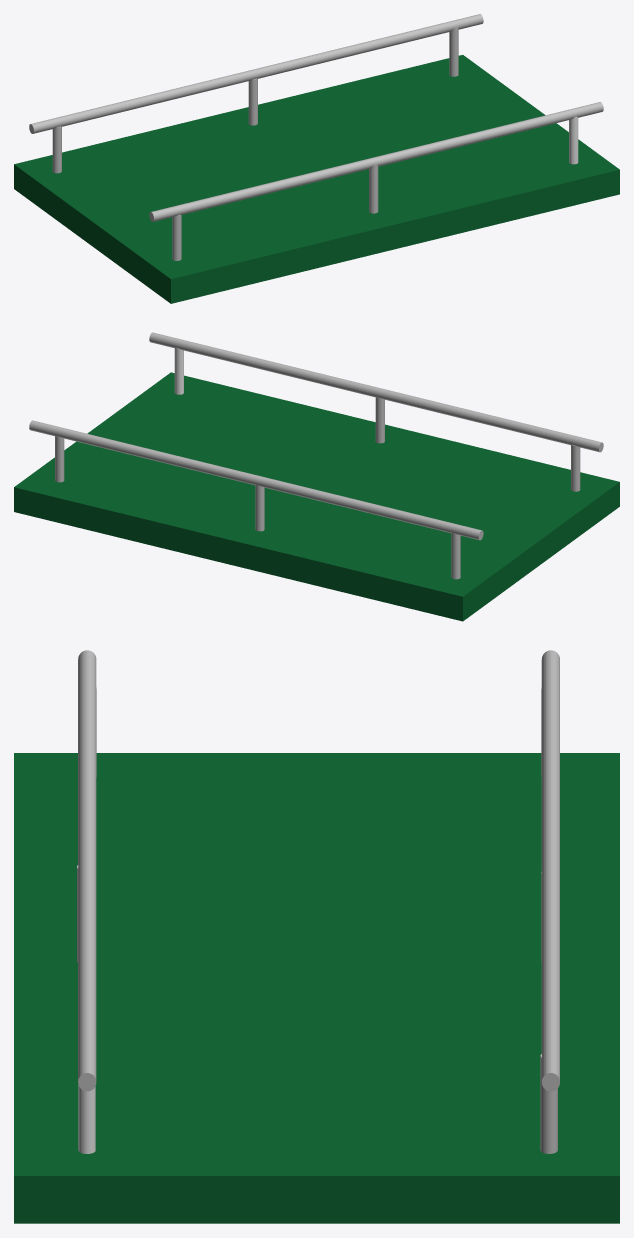
File: plataforma3.fbx
3 renders of one model, top to bottom at view 1: azimuth 30°, elevation 25°; view 2: azimuth 150°, elevation 25°; view 3: azimuth 270°, elevation 25°, orthographic. The views are drawn at different scales.
Visible parts, largest first — view 1: Cube, Cylinder, Cylinder.004, Cylinder.001, Cylinder.003, Cylinder.002, Cylinder.005, Cylinder.006; view 2: Cube, Cylinder, Cylinder.003, Cylinder.006, Cylinder.001, Cylinder.002, Cylinder.005, Cylinder.004; view 3: Cube, Cylinder, Cylinder.004, Cylinder.003.
Boxes of the visible parts, <box> form: Cube: <box>14,55,619,303</box>; Cylinder: <box>29,14,603,221</box>; Cylinder.004: <box>449,26,458,76</box>; Cylinder.001: <box>369,163,378,213</box>; Cylinder.003: <box>569,116,578,164</box>; Cylinder.002: <box>248,78,257,125</box>; Cylinder.005: <box>52,126,61,173</box>; Cylinder.006: <box>172,214,181,260</box>; Cube: <box>14,372,619,621</box>; Cylinder: <box>29,332,603,540</box>; Cylinder.003: <box>174,347,183,394</box>; Cylinder.006: <box>571,444,580,491</box>; Cylinder.001: <box>375,397,384,443</box>; Cylinder.002: <box>255,485,264,531</box>; Cylinder.005: <box>451,533,460,579</box>; Cylinder.004: <box>55,436,64,482</box>; Cube: <box>14,753,619,1223</box>; Cylinder: <box>78,650,559,1091</box>; Cylinder.004: <box>540,1054,557,1153</box>; Cylinder.003: <box>78,1085,95,1153</box>.
Bounding box in the file's own units: 1624 × 270 × 982.
